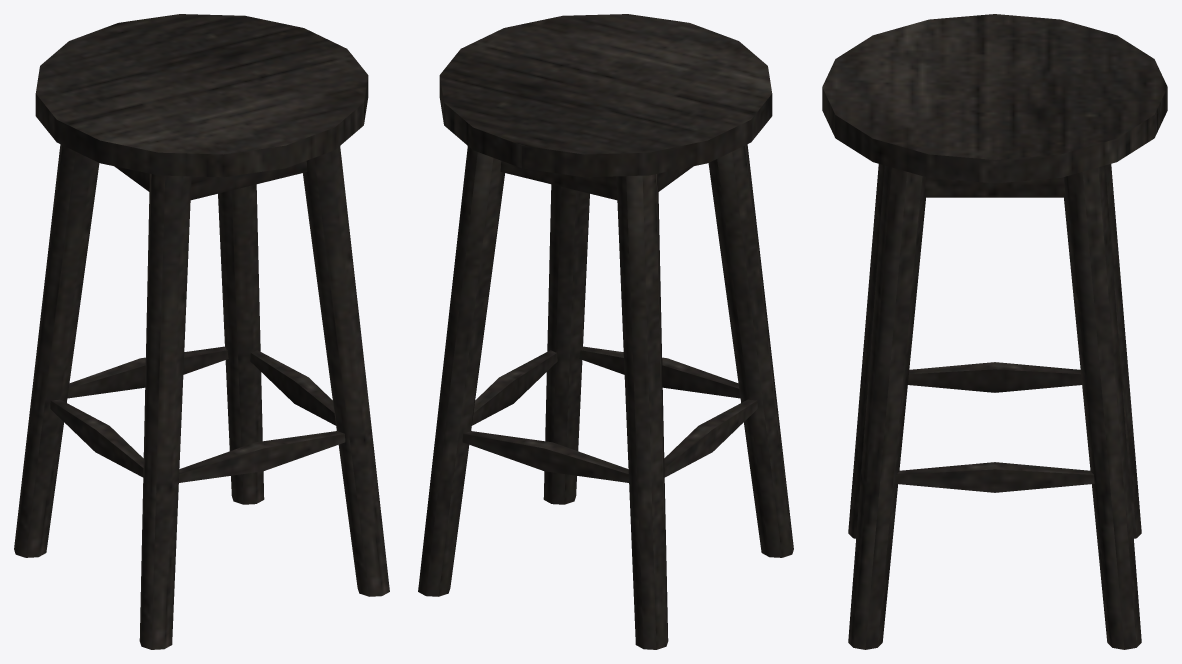
The model's file is chair_mp_2.fbx.
3 renders of one model, left to right at view 1: azimuth 30°, elevation 25°; view 2: azimuth 150°, elevation 25°; view 3: azimuth 270°, elevation 25°, orthographic. The views are drawn at different scales.
Visible parts, largest first — view 1: chair_mp_2; view 2: chair_mp_2; view 3: chair_mp_2.
Part boxes in pixels (x1,y1,x2,y2): chair_mp_2: (14,14,389,649); chair_mp_2: (418,14,793,649); chair_mp_2: (822,14,1167,649).
Bounding box in the file's own units: 0.4 × 0.4 × 0.64.
